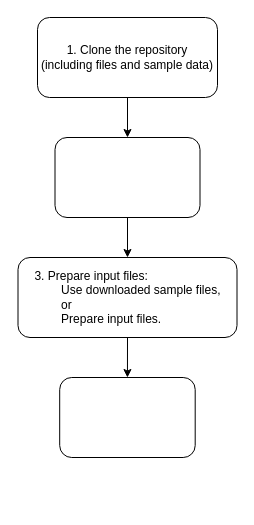
This 254x525 diagram has some shape labels left out. Here are the shapes that lost their labels. From the top down, the centre of each, then its label:
the point at 127,177: 2. Install dependencies
the point at 127,417: 4.Execute WESscDRS
